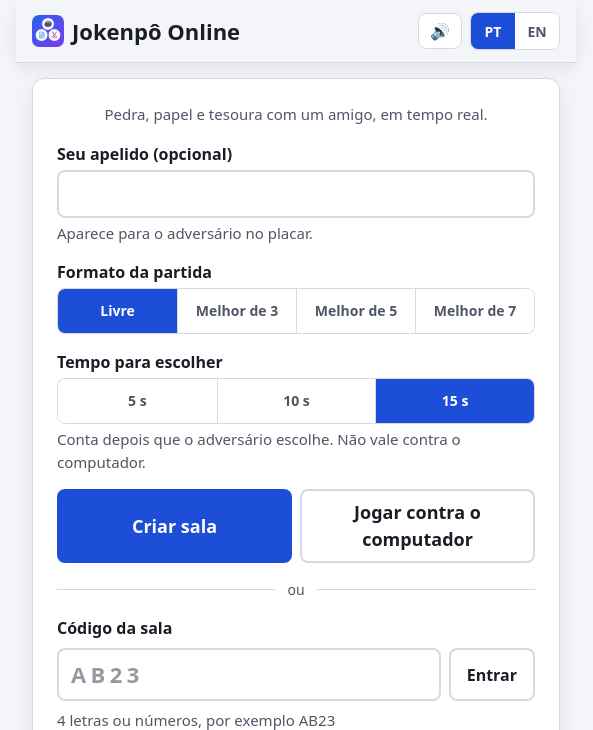
Test: espera e jogo › o cartão da rodada fica na tela desde o início, para não empurrar os botões
Click the button "Criar sala": (174, 526) top-left (57, 489), bottom-right (292, 563)
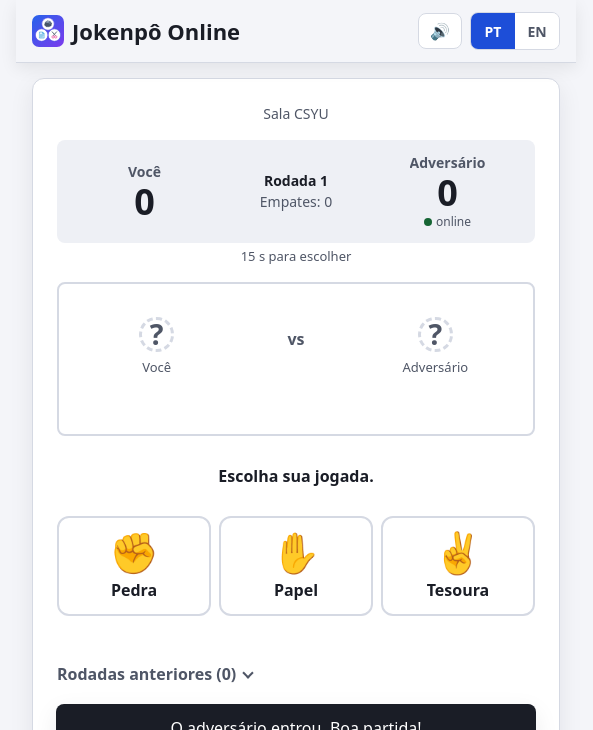
Expected: the element with class "round-card-current" is shown, top-left (57, 282), bottom-right (535, 436)
Expected: the heading "Rodadas anteriores (0)" is shown, top-left (57, 663), bottom-right (236, 685)
Expected: the number of elements with class "round-move-placeholder" is 2, top-left (139, 317), bottom-right (174, 352); top-left (418, 317), bottom-right (453, 352)
